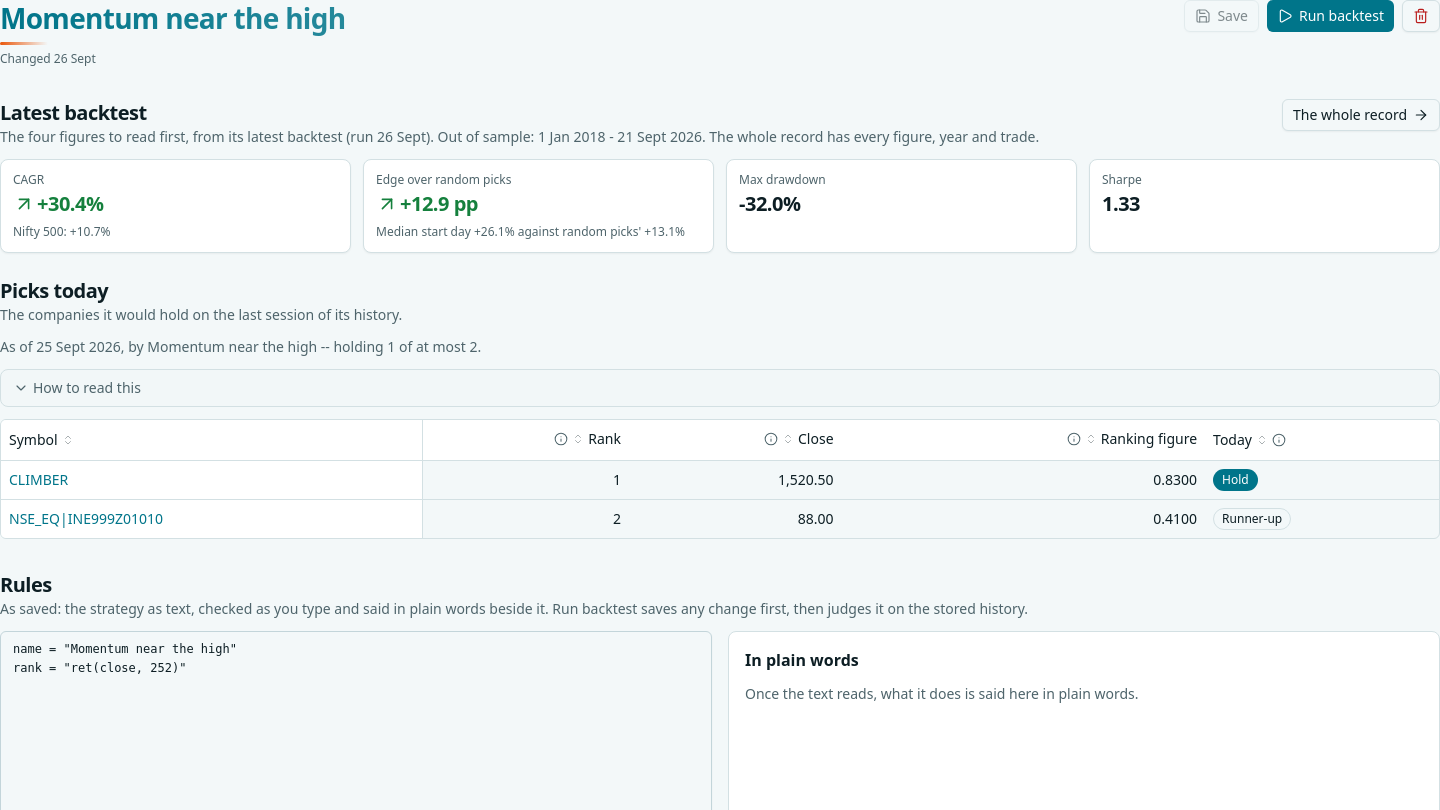
Scenario: a saved strategy › closes the question without deleting
The image size is (1440, 810).
Click the button named "Delete strategy" at (1421, 16), box [1402,0,1439,32]
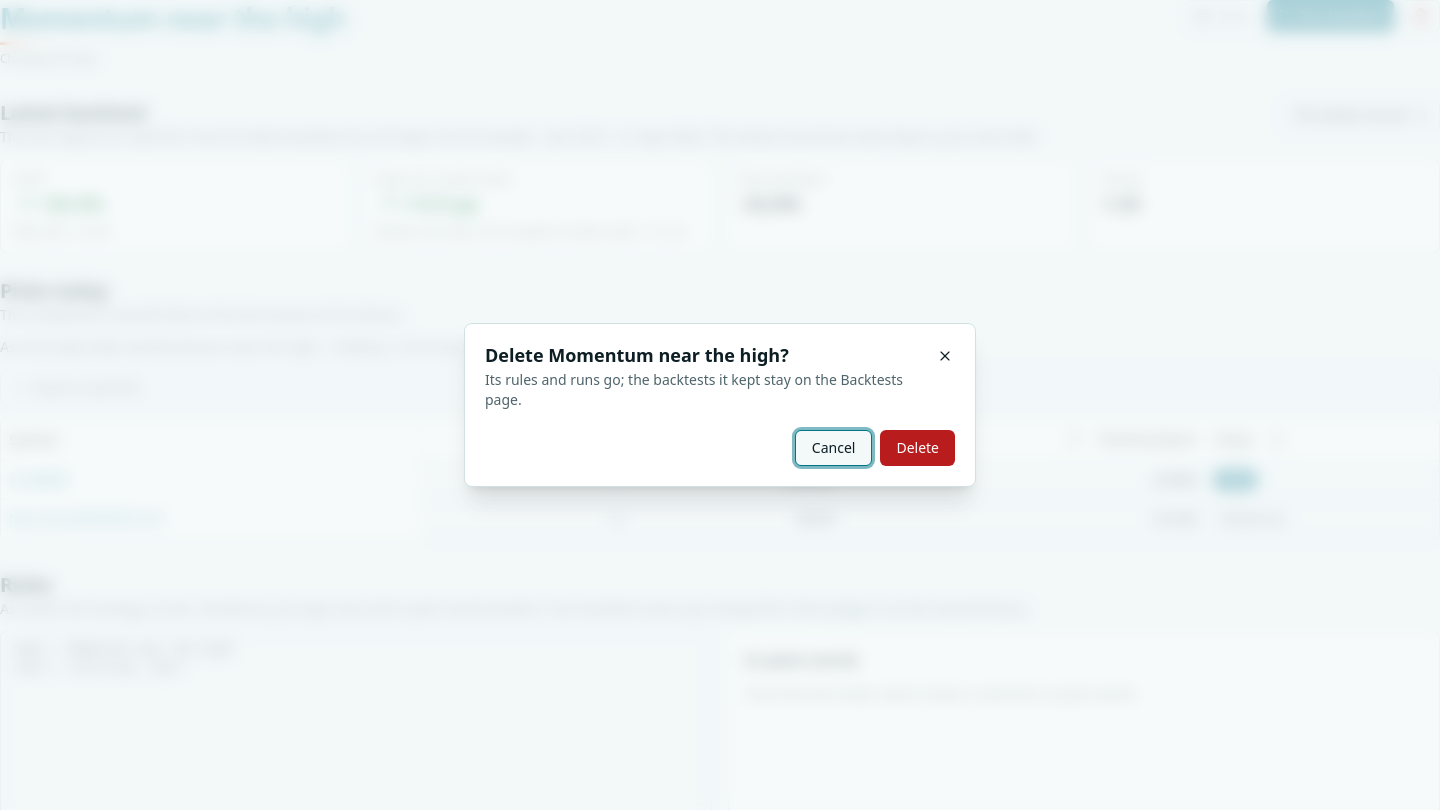
Click the button "Cancel" at (834, 448), box [795,430,872,466]
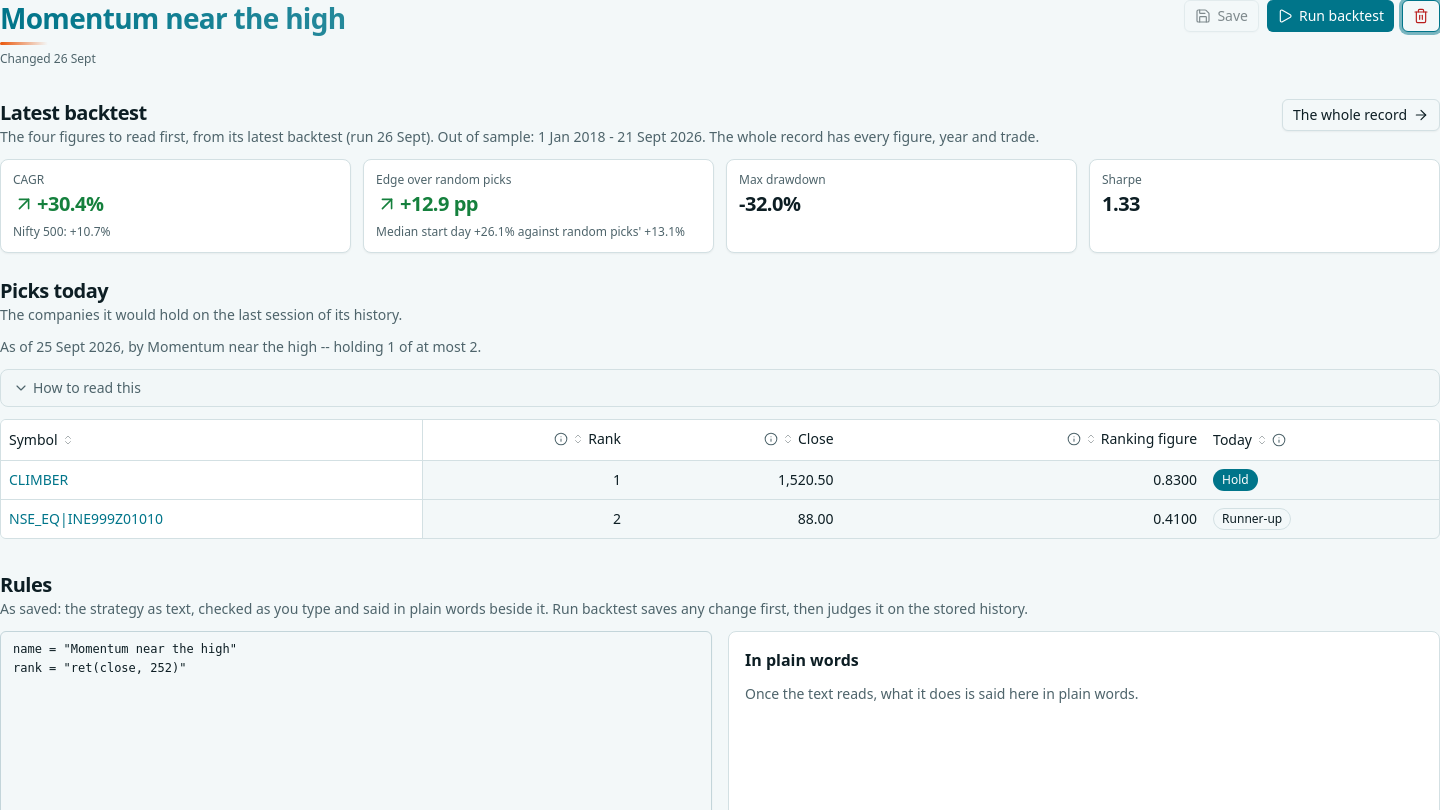
Expected: the dialog is gone
